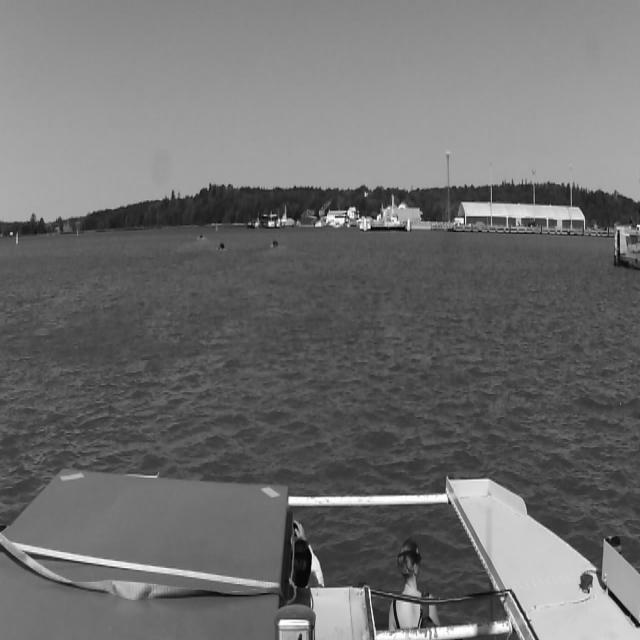buoy: (16, 231, 19, 245), (216, 221, 218, 232)
ship: (217, 242, 227, 252), (270, 240, 280, 248), (197, 235, 205, 241)
